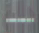No entry: (1, 1, 37, 32)
